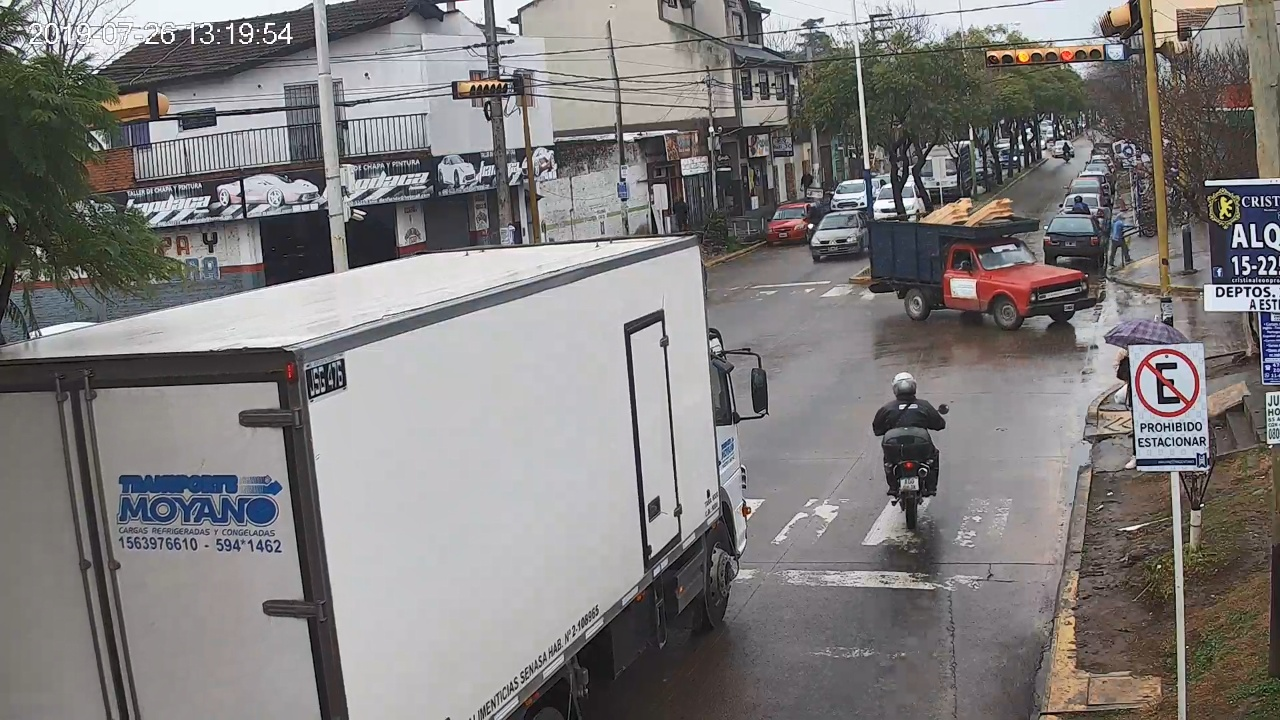motorcycle: (872, 403, 949, 527)
traffic light: (1016, 49, 1102, 62)
truck: (1, 235, 772, 720)
